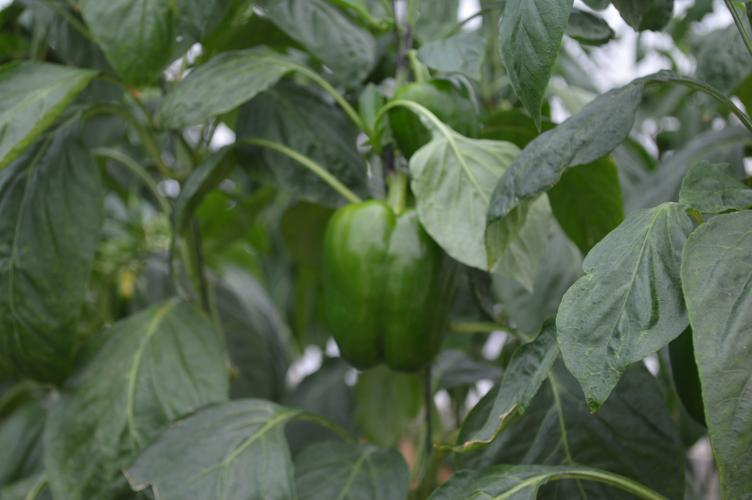BellPepper: (321, 202, 448, 369), (388, 82, 476, 156)
